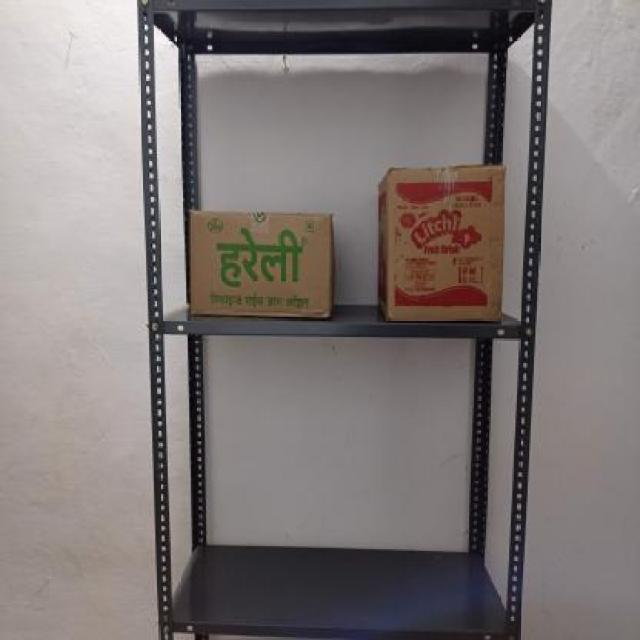box: (388, 168, 504, 324), (188, 208, 334, 318)
